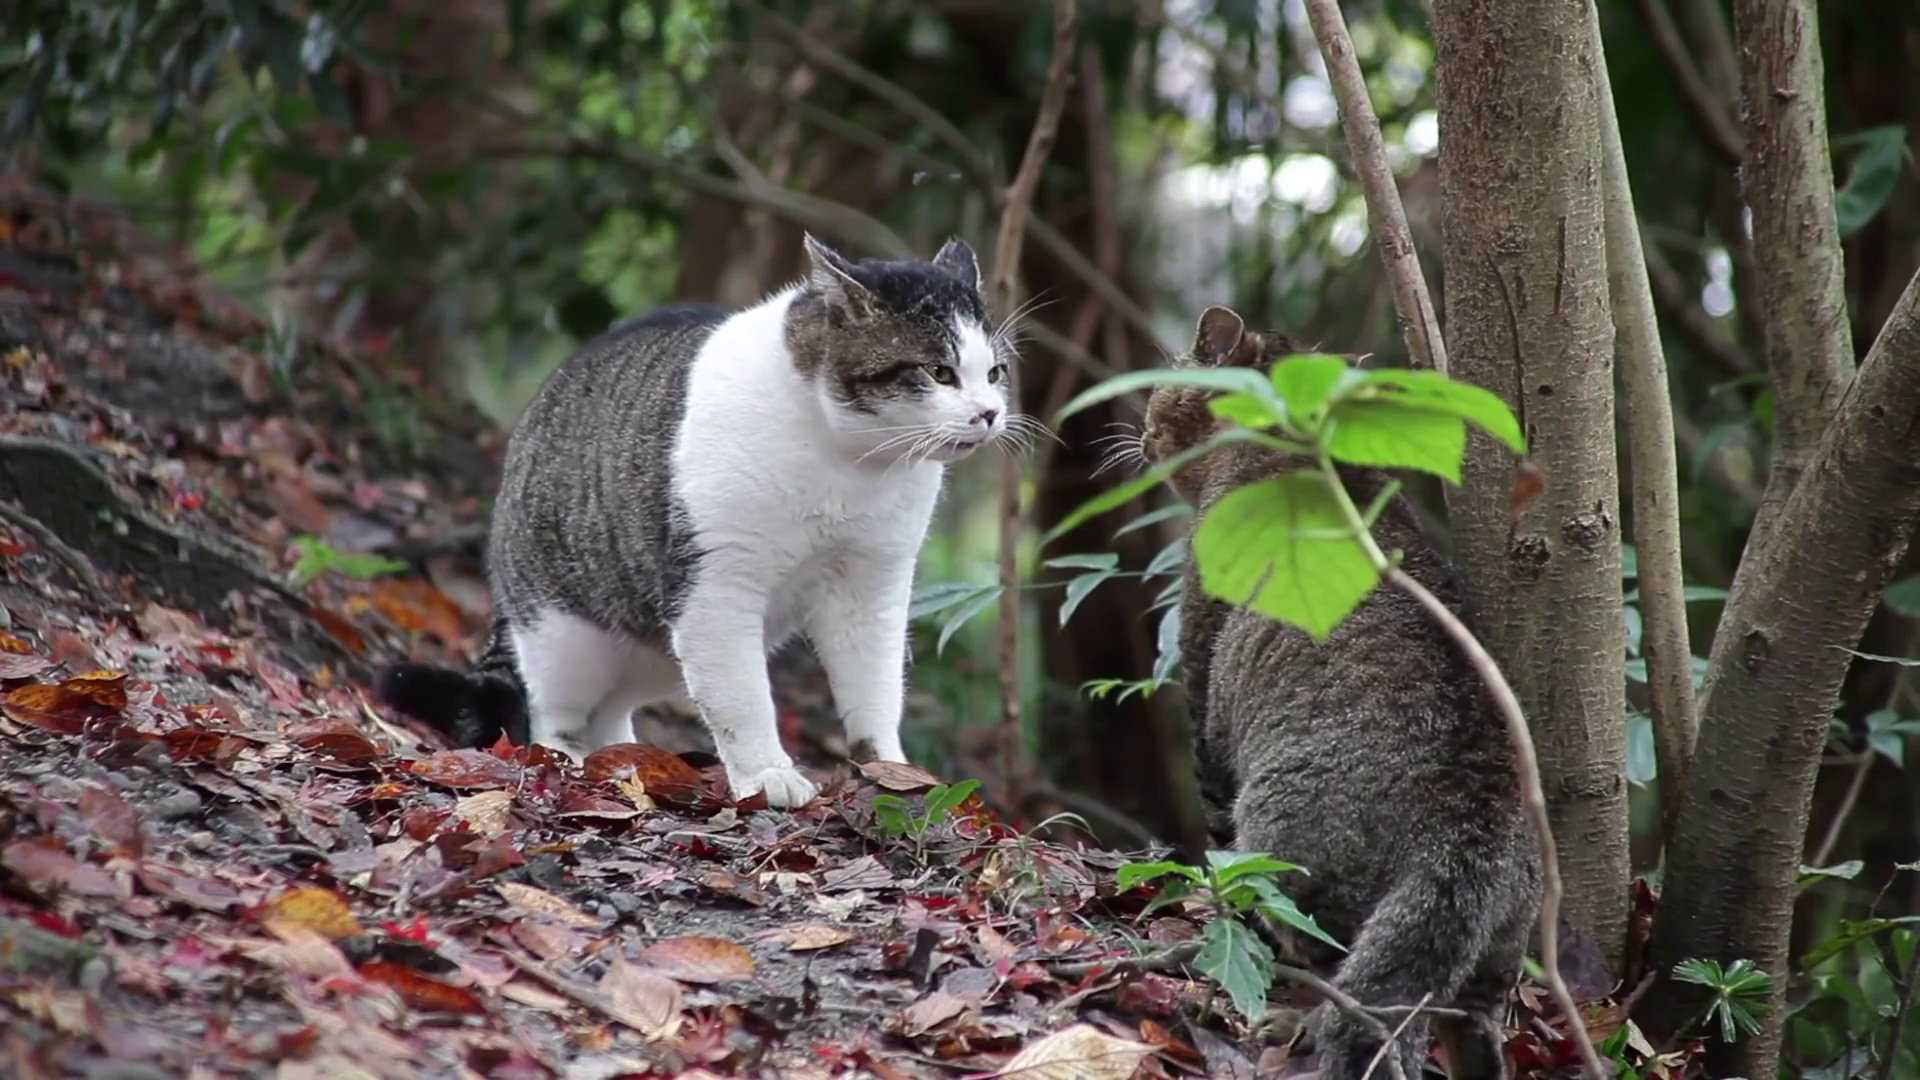black-white: (384, 229, 1007, 818)
pure black: (1137, 305, 1543, 1080)
